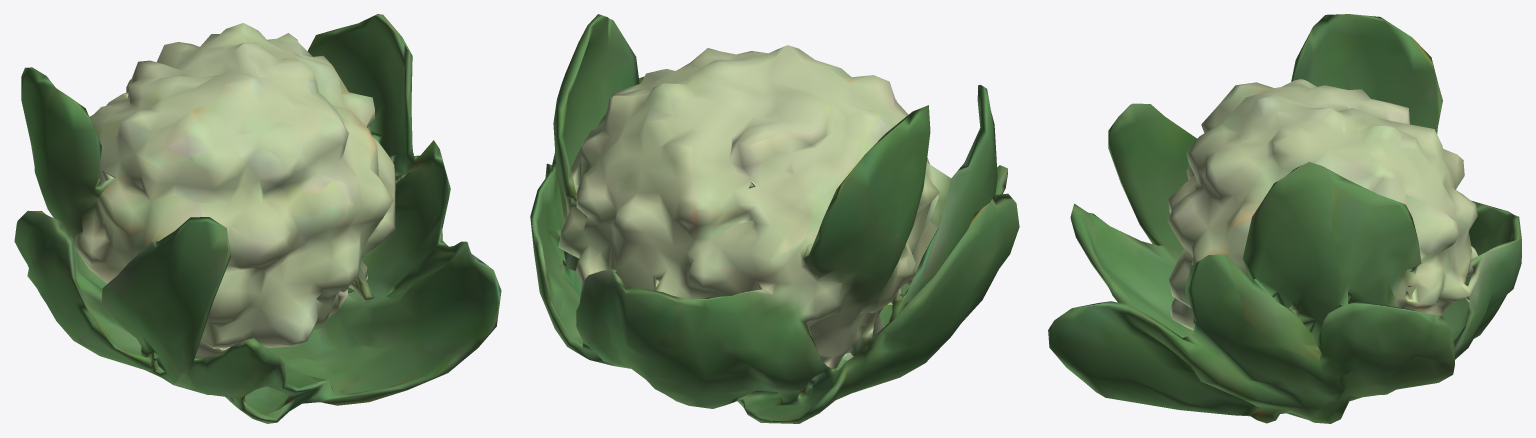
Rendered from couveflor.glb.
3 views of the same model, side by side, from view 1: azimuth 30°, elevation 25°; view 2: azimuth 150°, elevation 25°; view 3: azimuth 270°, elevation 25° (orthographic). The views are drawn at different scales.
Parts seen in each view (by area): view 1: couveflor; view 2: couveflor; view 3: couveflor.
Part boxes in pixels (box(x1,y1,x2,y2)): couveflor: box(14, 14, 501, 423); couveflor: box(530, 14, 1019, 423); couveflor: box(1048, 14, 1521, 423).
Size of the model in its own units: 0.152 by 0.1211 by 0.1653.
1 material, 1 textured.
